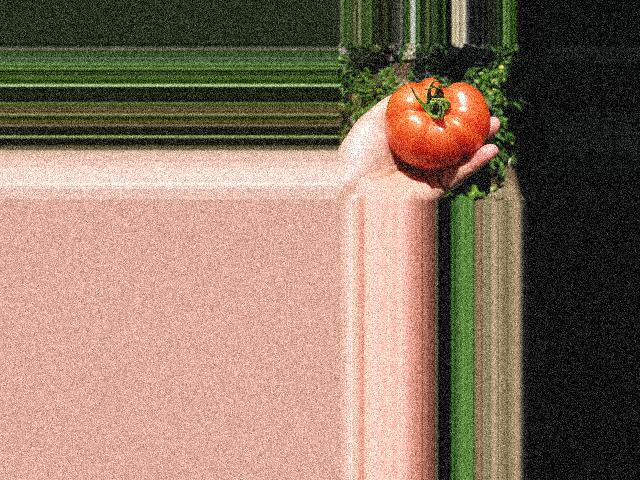tomato: (386, 78, 490, 169)
